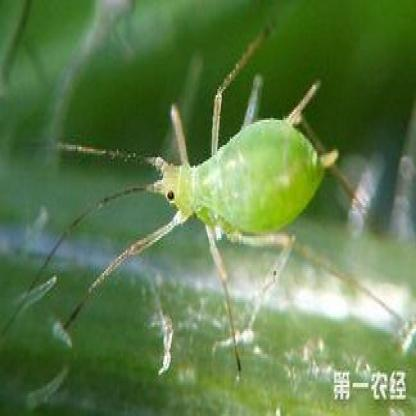aphid: (62, 35, 372, 312)
